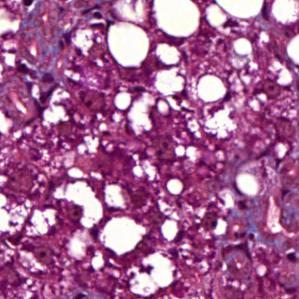steatosis: (100, 17, 152, 74), (198, 73, 233, 116)
